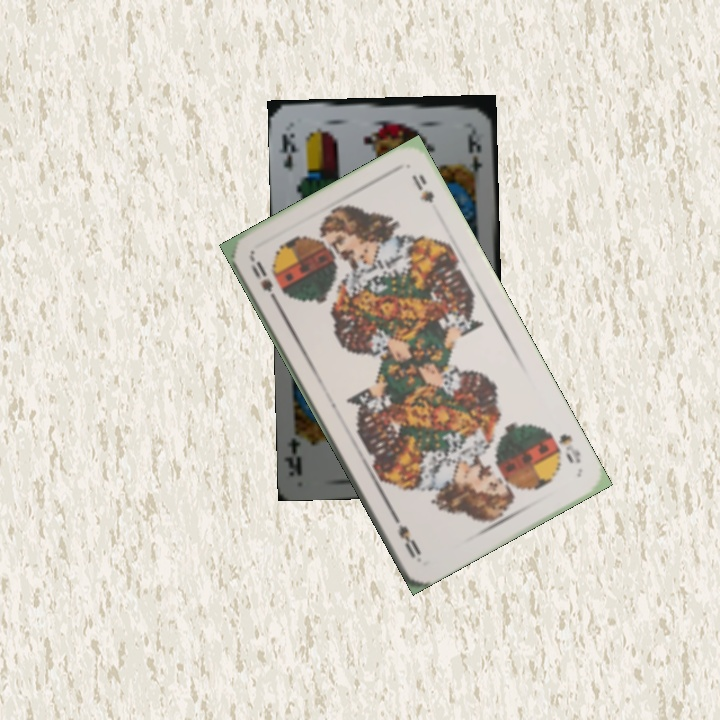EK: (276, 129, 300, 173)
SO: (246, 254, 282, 309), (542, 424, 584, 467)
